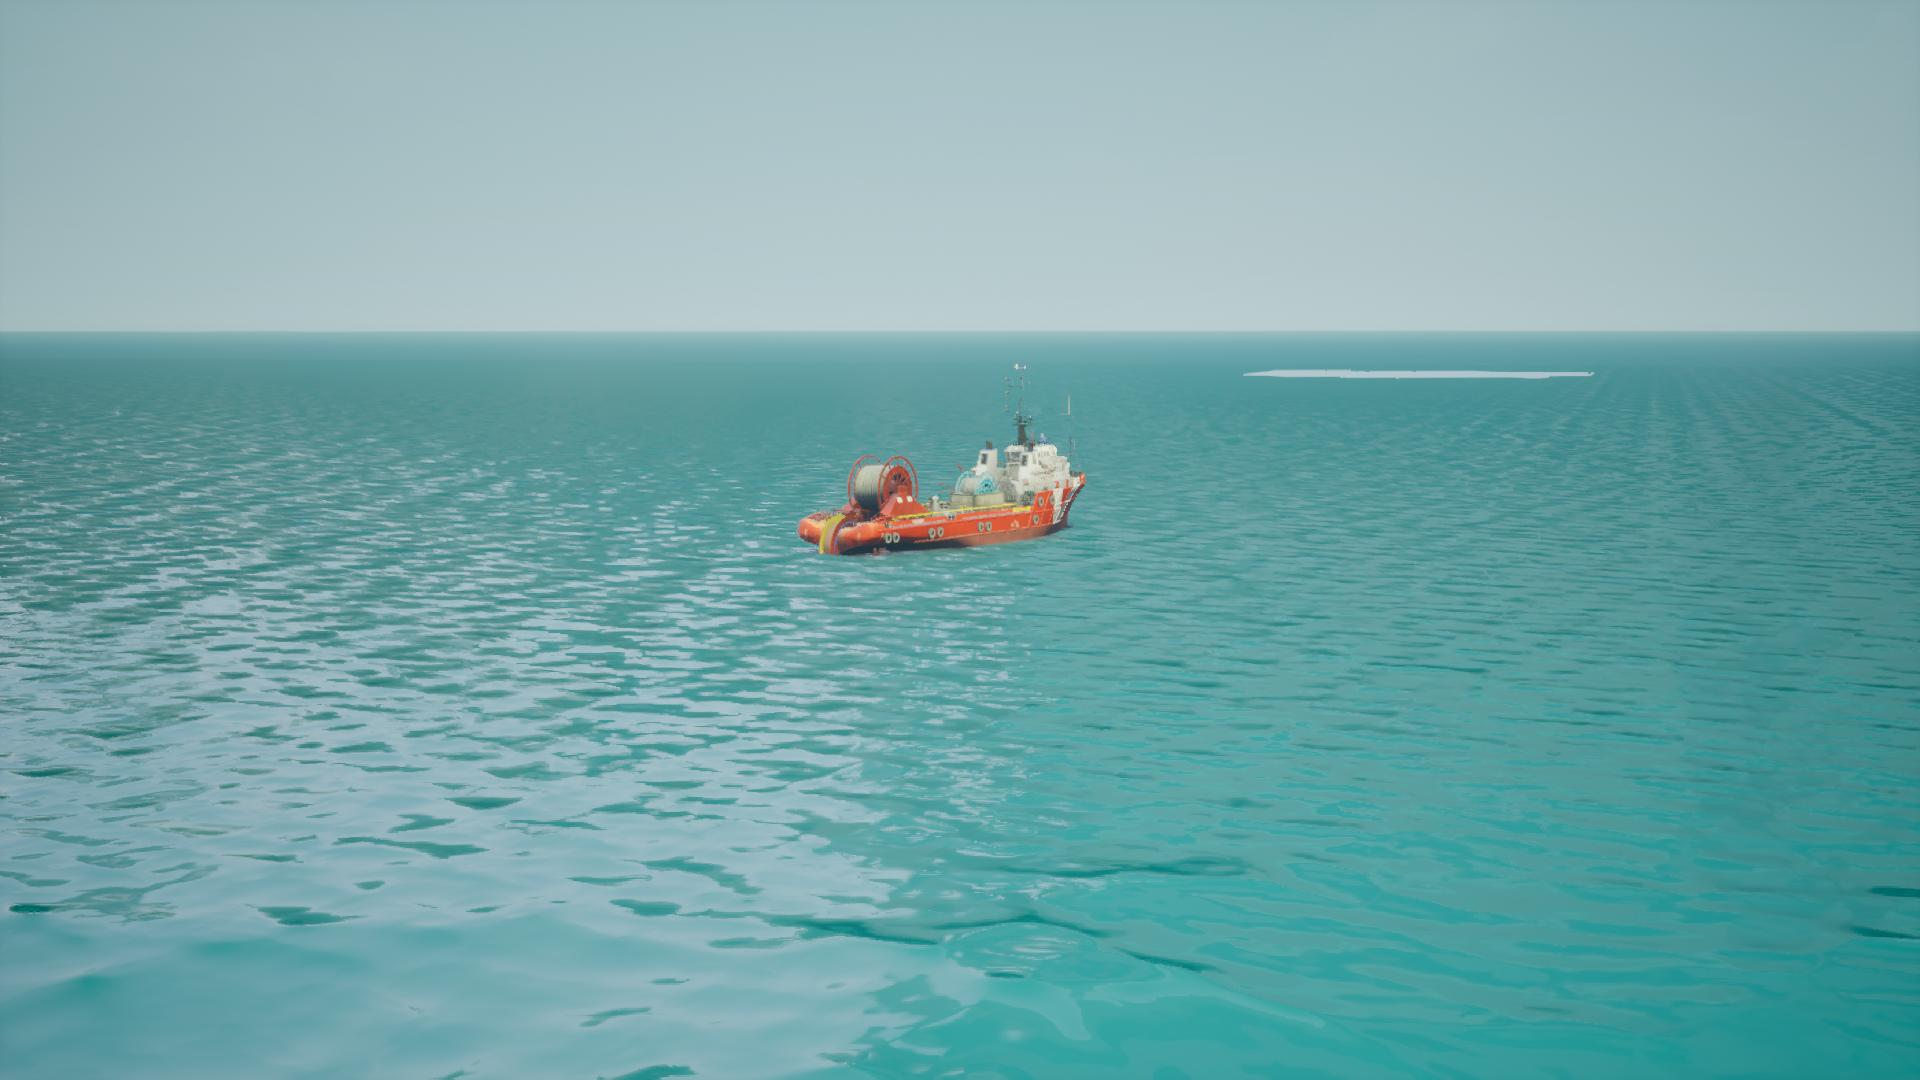Tug Boat: (804, 361, 1093, 560)
